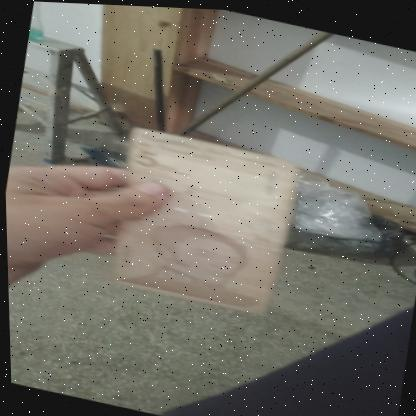five-front-vef: (101, 122, 299, 316)
